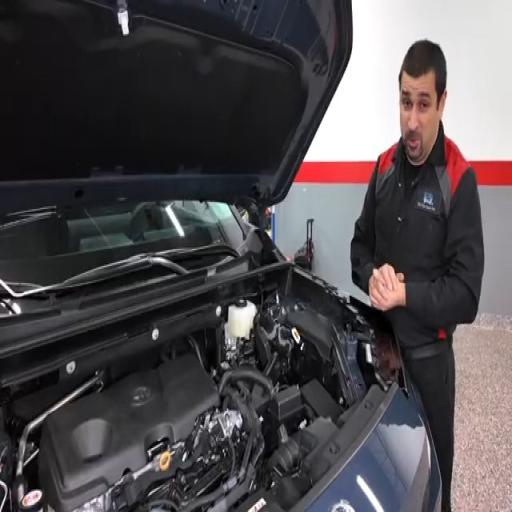bumper: (308, 392, 440, 511)
emblem: (132, 386, 151, 405), (330, 500, 355, 511)
hood: (0, 0, 351, 211)
window: (0, 201, 243, 280)
windshield: (0, 201, 243, 284)
